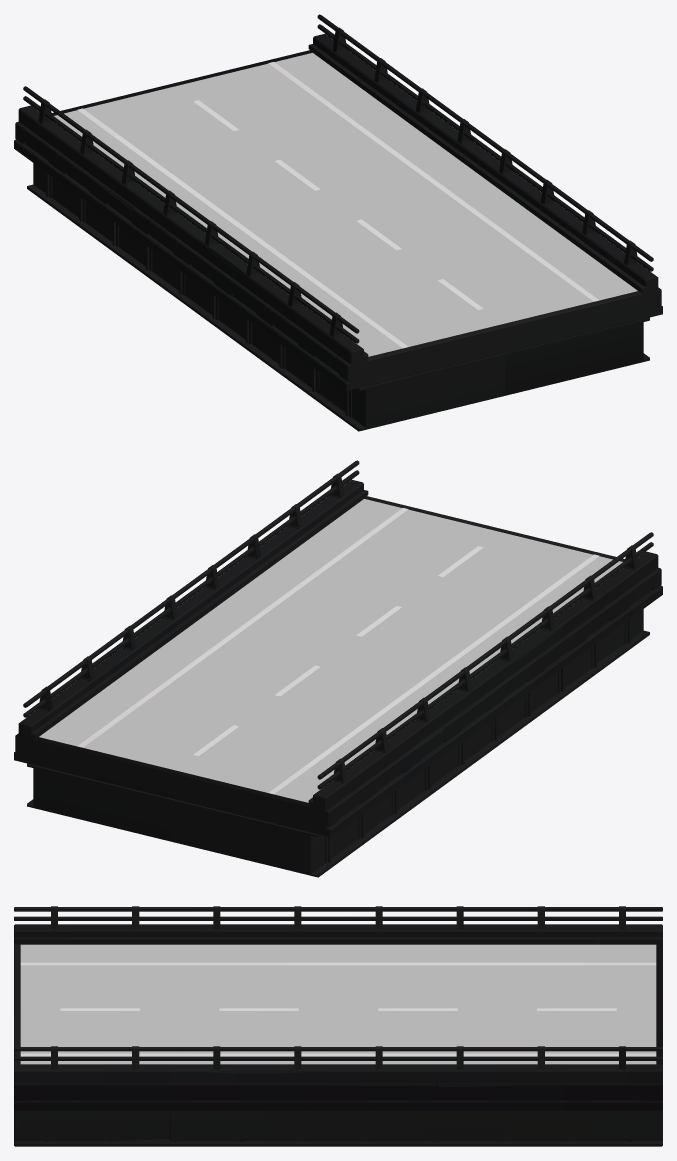
File: Highway_Segment03.fbx
The picture shows the model from 3 angles, top to bottom: view 1: azimuth 30°, elevation 25°; view 2: azimuth 150°, elevation 25°; view 3: azimuth 270°, elevation 25°; orthographic projection. The views are drawn at different scales.
Visible parts, largest first — view 1: SM_City_Highway_Segment_02a.mo; view 2: SM_City_Highway_Segment_02a.mo; view 3: SM_City_Highway_Segment_02a.mo.
Boxes of the visible parts, left/top/right/bottom form: SM_City_Highway_Segment_02a.mo: left=14, top=14, right=662, bottom=431; SM_City_Highway_Segment_02a.mo: left=14, top=460, right=662, bottom=877; SM_City_Highway_Segment_02a.mo: left=14, top=906, right=662, bottom=1146.
Size of the model in its own units: 1100 by 342 by 2000.
